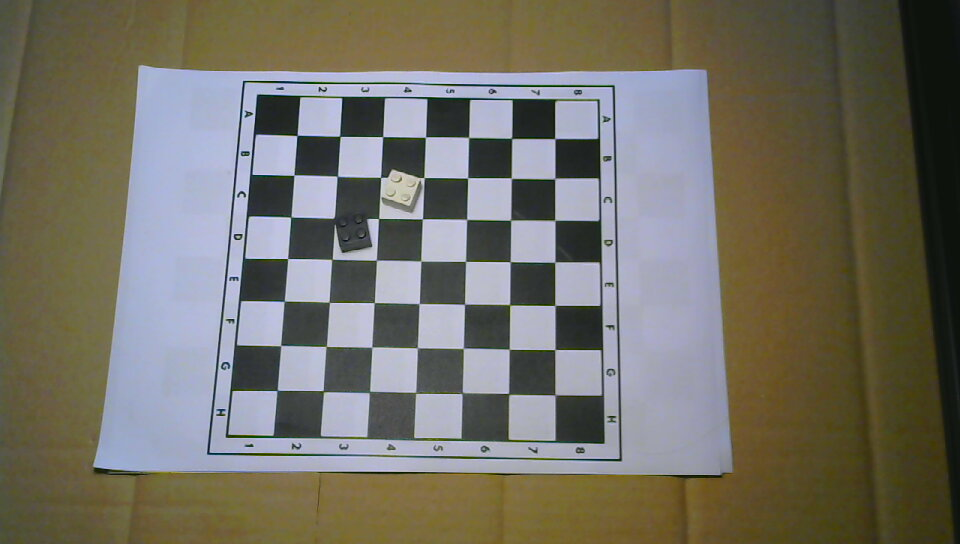bp: (334, 212, 374, 252)
wp: (380, 166, 423, 212)
